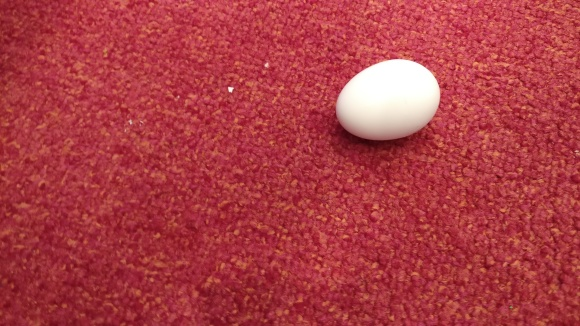egg: (334, 58, 441, 141)
